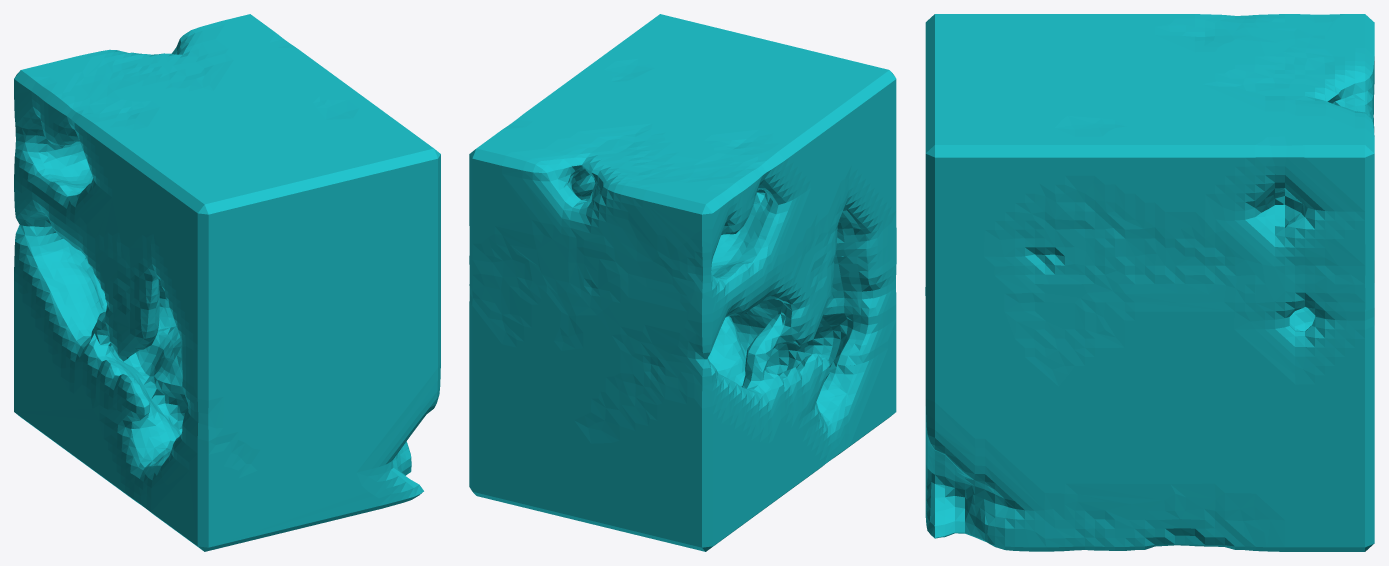
3 renders of one model, left to right at view 1: azimuth 30°, elevation 25°; view 2: azimuth 150°, elevation 25°; view 3: azimuth 270°, elevation 25°, orthographic. The views are drawn at different scales.
Parts seen in each view (by area): view 1: Liquid_Domain; view 2: Liquid_Domain; view 3: Liquid_Domain.
Part boxes in pixels (<box>): Liquid_Domain: <box>14,14,440,551</box>; Liquid_Domain: <box>469,14,896,551</box>; Liquid_Domain: <box>925,14,1374,551</box>.
Size of the model in its own units: 79.09 by 108 by 108.
